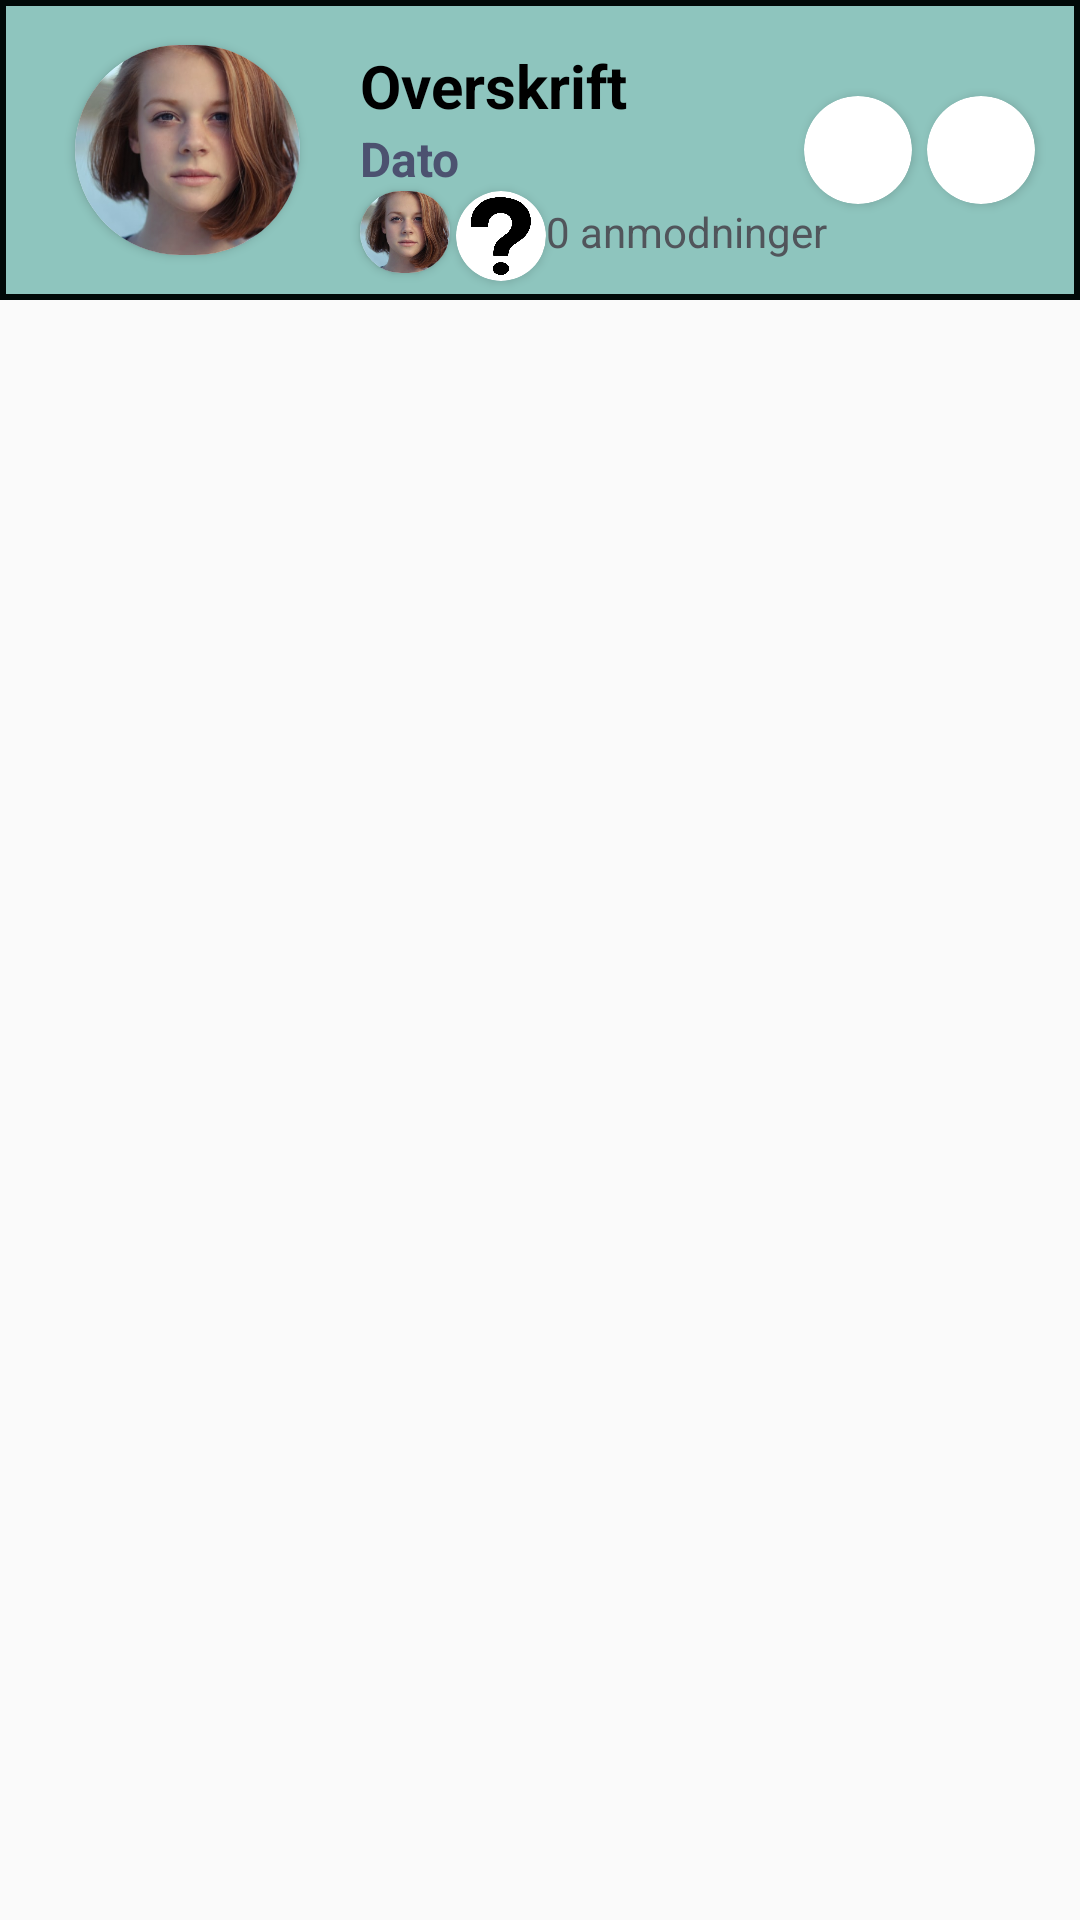

Icons on this 1080x1920 Android screen, each with the point to tap as point (x, y):
profiltest: point (187, 150), point (404, 232)
question: point (501, 236)
